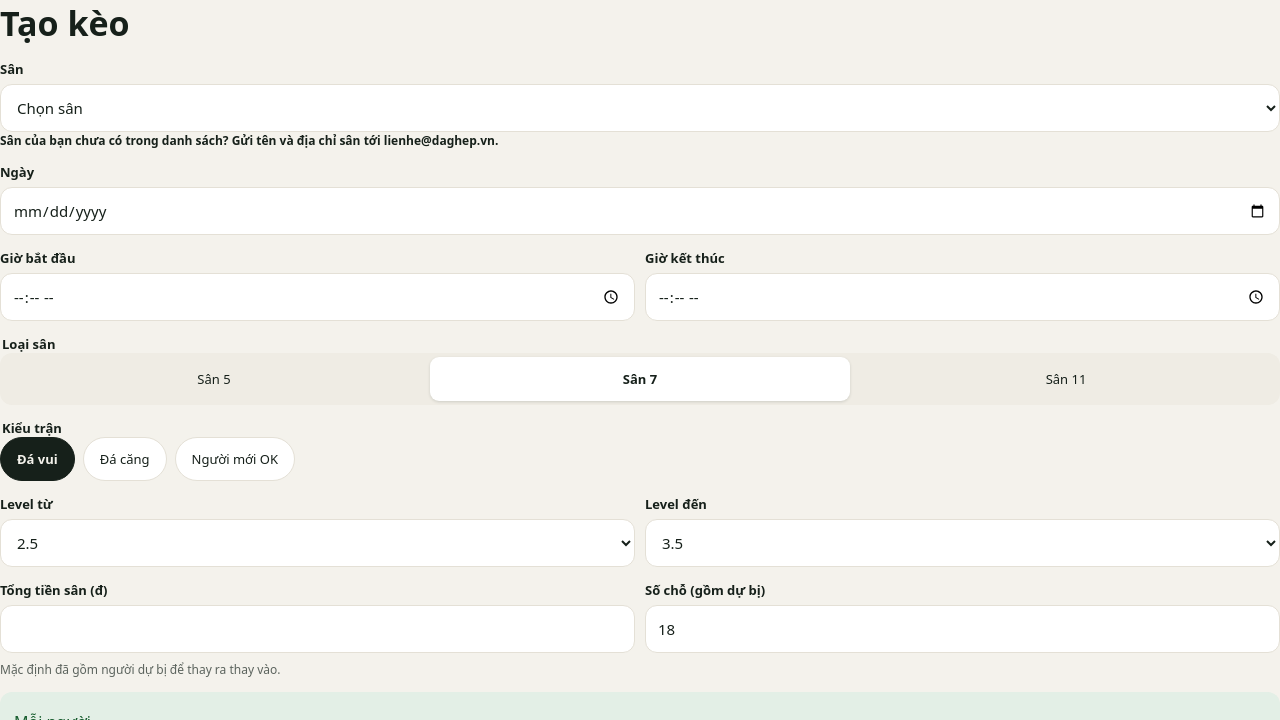
Test: CreateMatchForm › defaults the slot count by format and previews the price per player
The image size is (1280, 720).
Select "SSA Sports Center (Amitie Thảo Điền)" in the dropdown labelled "Sân" at x=640, y=108, box [0, 84, 1279, 132]
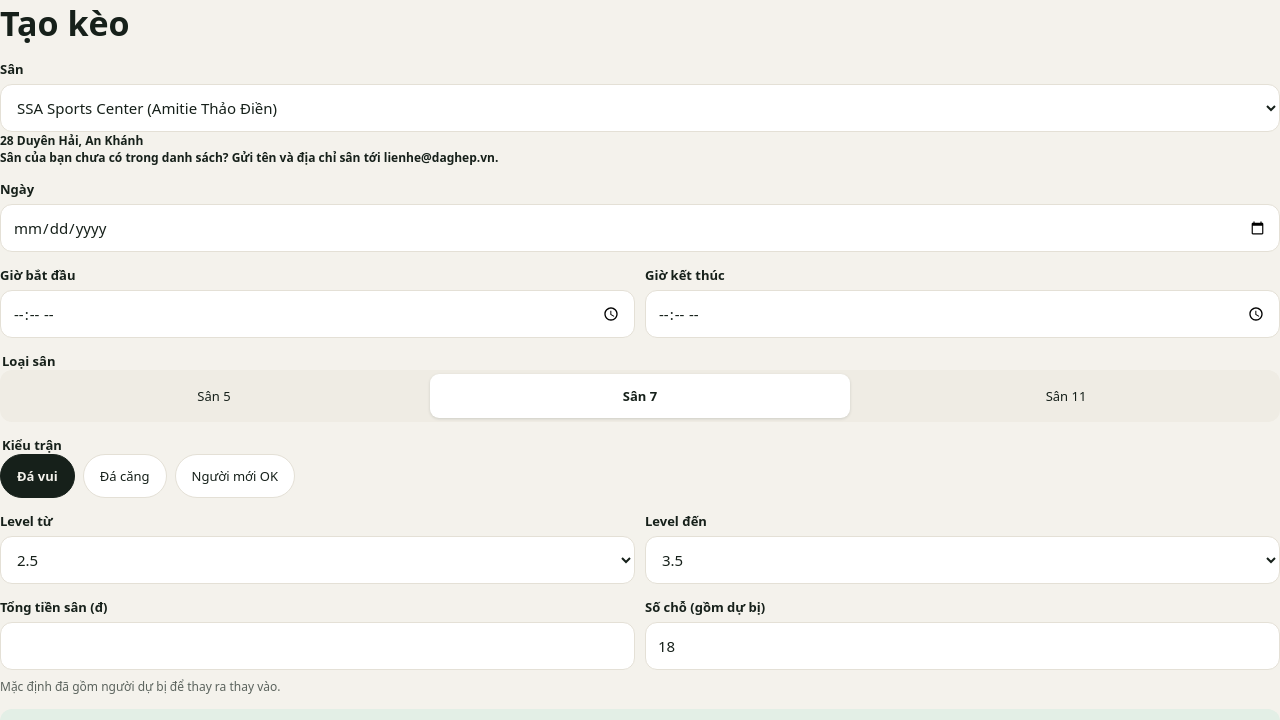
Type "2099-10-10" into the date field labelled "Ngày" at x=640, y=228, box [0, 204, 1279, 252]
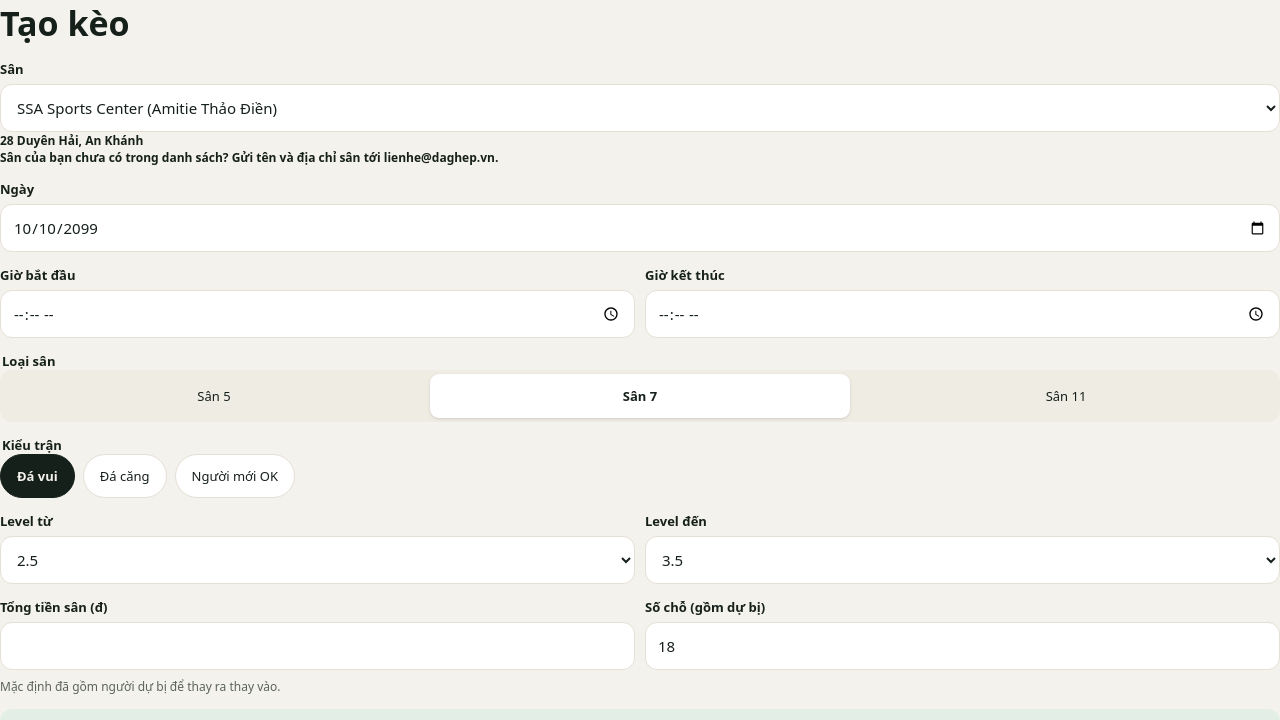
Type "18:30" into the time field labelled "Giờ bắt đầu" at x=318, y=314, box [0, 290, 635, 338]
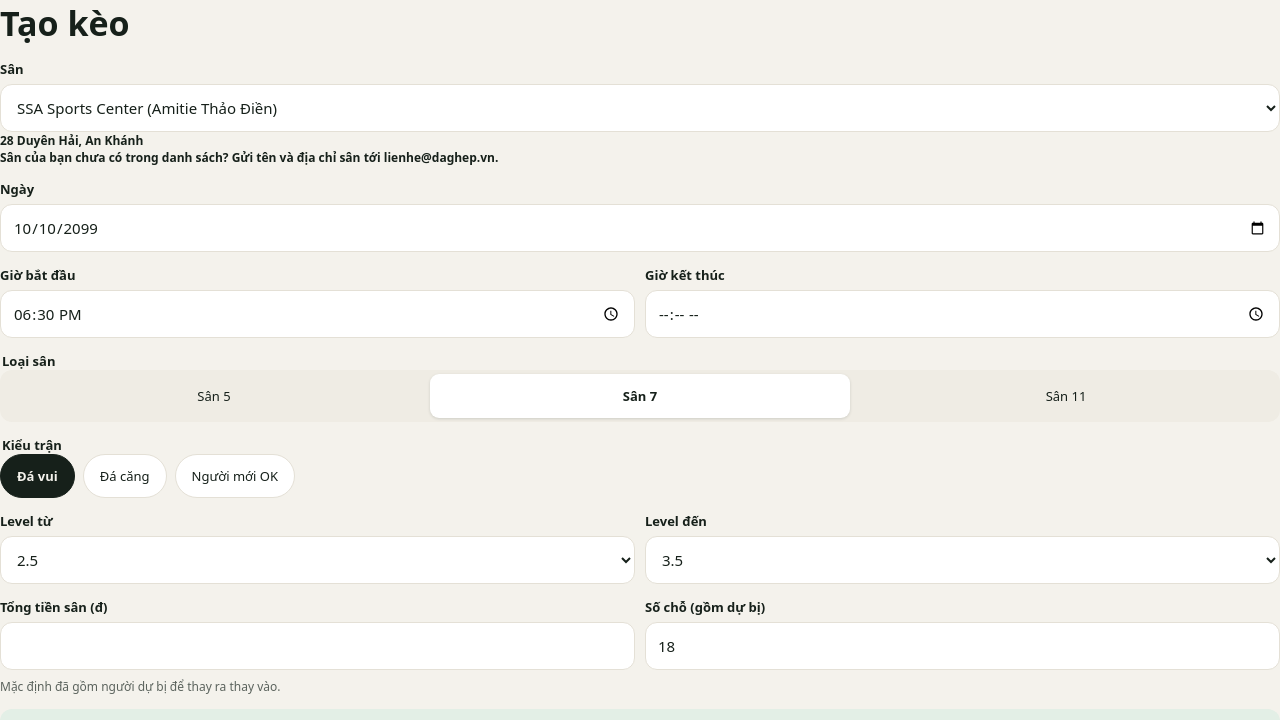
Type "20:00" into the time field labelled "Giờ kết thúc" at x=962, y=314, box [645, 290, 1279, 338]
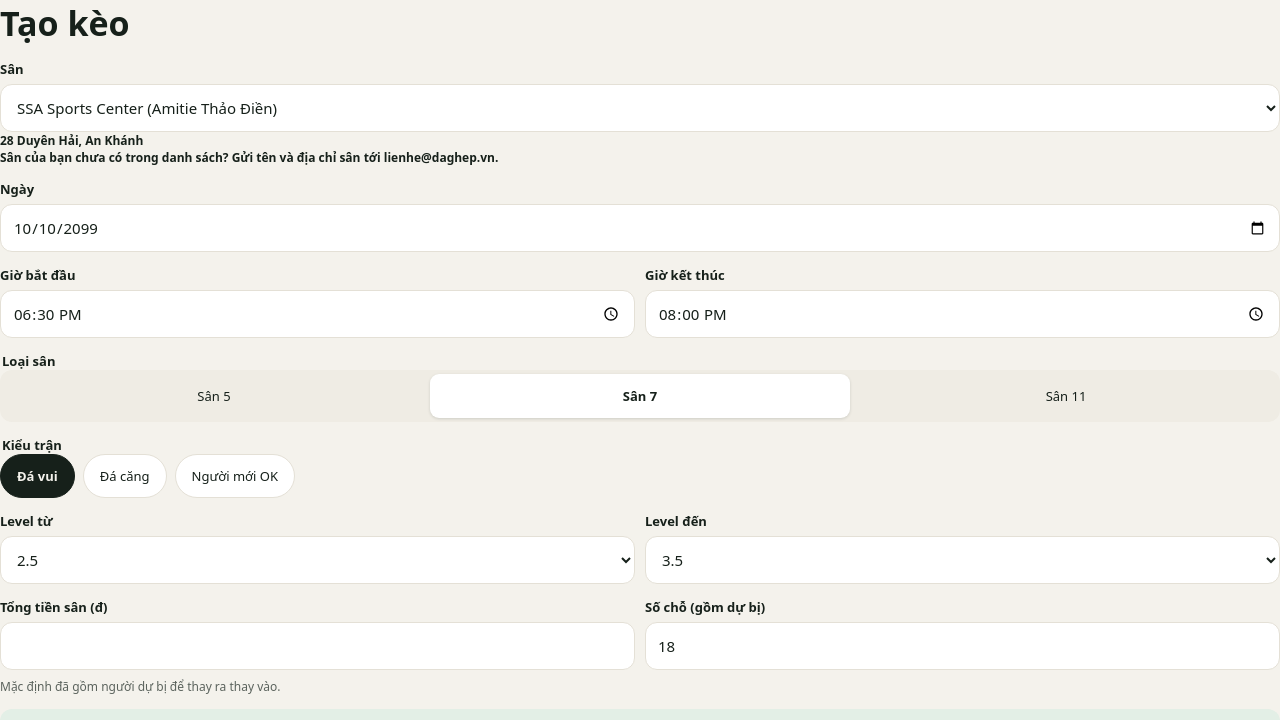
Type "900000" into the number field labelled "Tổng tiền sân (đ)" at x=318, y=646, box [0, 622, 635, 670]
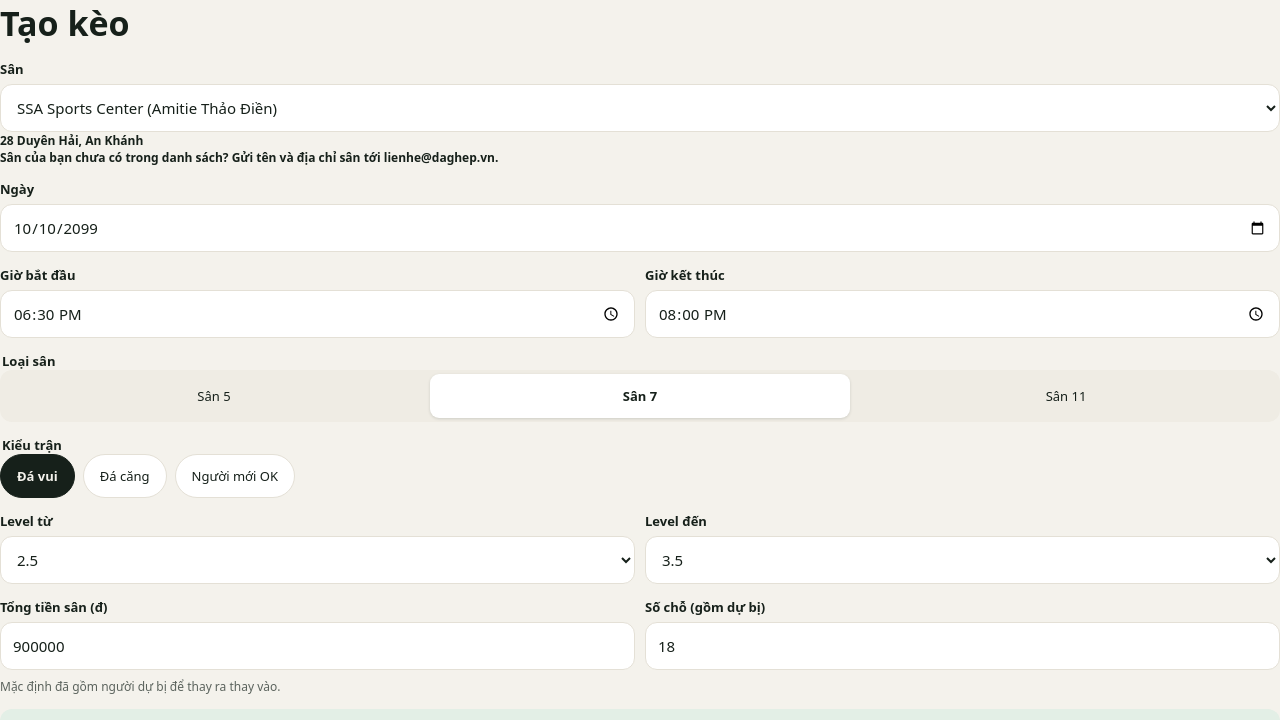
expect the number field labelled "Số chỗ (gồm dự bị)" holds "18": met, box [645, 622, 1279, 670]
Click the radio button labelled "Sân 5" at x=214, y=396, box [197, 387, 231, 405]
(page scrolled)
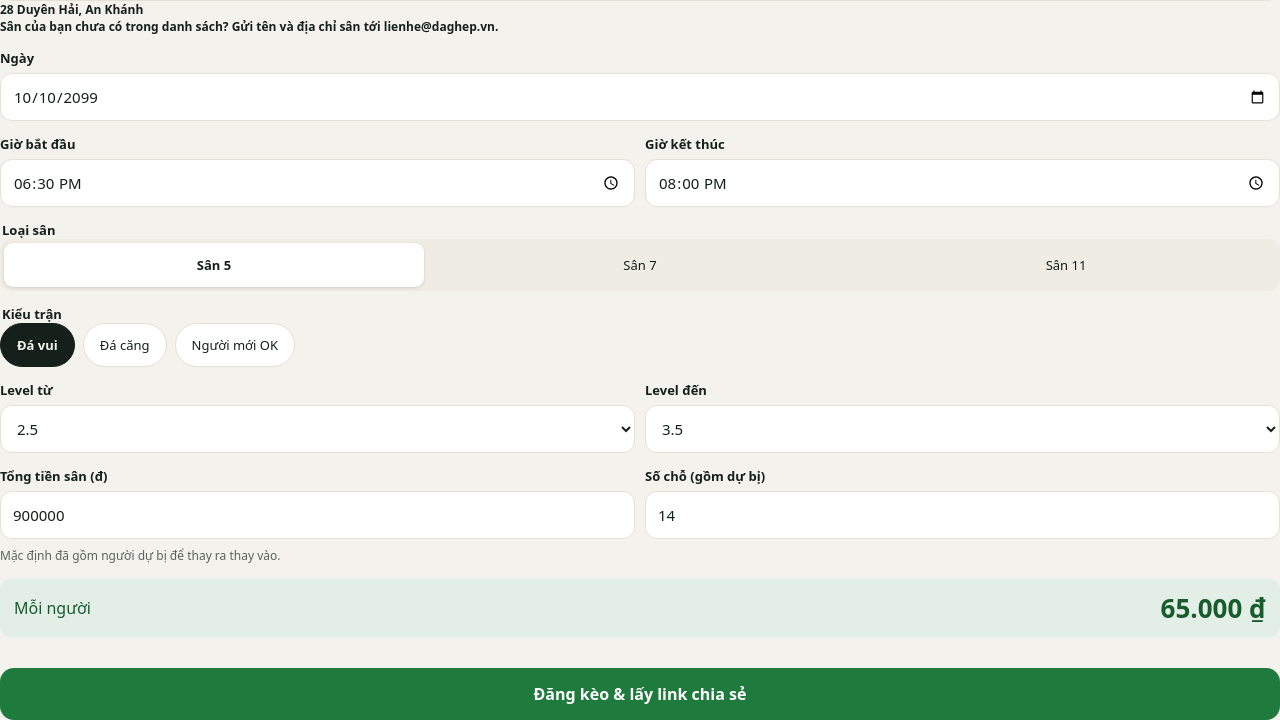
expect the number field labelled "Số chỗ (gồm dự bị)" holds "14": met, box [645, 491, 1279, 539]
expect the text with test id "price-per-player" shows "65.000": met, box [1161, 590, 1266, 626]
